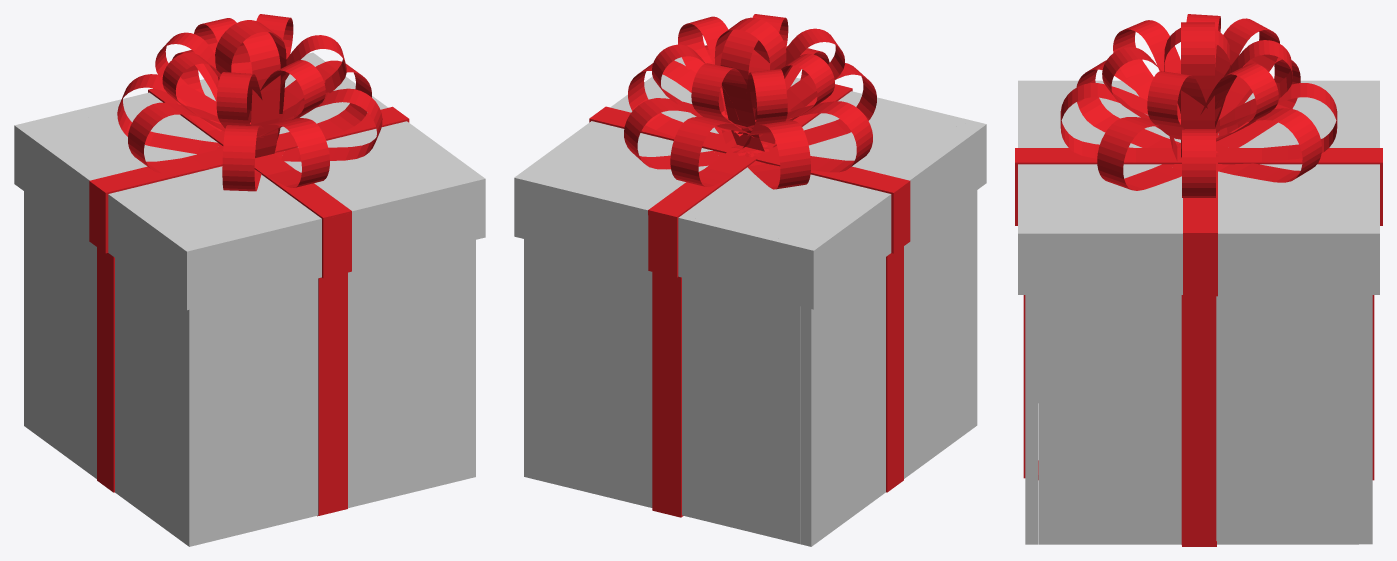
File: GiftBox.fbx
The picture shows the model from 3 angles, left to right: view 1: azimuth 30°, elevation 25°; view 2: azimuth 150°, elevation 25°; view 3: azimuth 270°, elevation 25°; orthographic projection. The views are drawn at different scales.
Parts seen in each view (by area): view 1: Mesh_15, Mesh_7, Mesh_14, Mesh_0, Mesh_11, Mesh_12, Mesh_6, Mesh_5, Mesh_16, Mesh_4, Mesh_1; view 2: Mesh_16, Mesh_7, Mesh_14, Mesh_0, Mesh_10, Mesh_12, Mesh_6, Mesh_5, Mesh_3, Mesh_1, Mesh_15; view 3: Mesh_16, Mesh_7, Mesh_0, Mesh_13, Mesh_15, Mesh_5, Mesh_2, Mesh_6, Mesh_11, Mesh_10.
Boxes of the visible parts, x1,y1,x2,y2 form: Mesh_15: (194, 173, 475, 543); Mesh_7: (14, 52, 485, 310); Mesh_14: (24, 191, 200, 546); Mesh_0: (117, 14, 382, 191); Mesh_11: (318, 272, 347, 515); Mesh_12: (97, 247, 114, 492); Mesh_6: (89, 106, 409, 197); Mesh_5: (148, 88, 351, 219); Mesh_16: (35, 56, 468, 175); Mesh_4: (322, 213, 351, 278); Mesh_1: (89, 186, 108, 253); Mesh_16: (524, 60, 806, 543); Mesh_7: (514, 57, 986, 309); Mesh_14: (800, 190, 977, 546); Mesh_0: (624, 14, 876, 189); Mesh_10: (652, 272, 681, 515); Mesh_12: (886, 246, 903, 492); Mesh_6: (589, 106, 910, 197); Mesh_5: (648, 84, 852, 221); Mesh_3: (648, 215, 678, 277); Mesh_1: (891, 186, 910, 253); Mesh_15: (791, 80, 965, 126); Mesh_16: (1039, 89, 1372, 544); Mesh_7: (1018, 80, 1379, 294); Mesh_0: (1060, 14, 1337, 197); Mesh_13: (1181, 295, 1216, 544); Mesh_15: (1025, 89, 1038, 544); Mesh_5: (1015, 148, 1382, 167); Mesh_2: (1183, 234, 1217, 296); Mesh_6: (1183, 134, 1217, 238); Mesh_11: (1023, 295, 1025, 478); Mesh_10: (1372, 295, 1374, 478).
Size of the model in its own units: 5.29 by 7.09 by 5.29.
